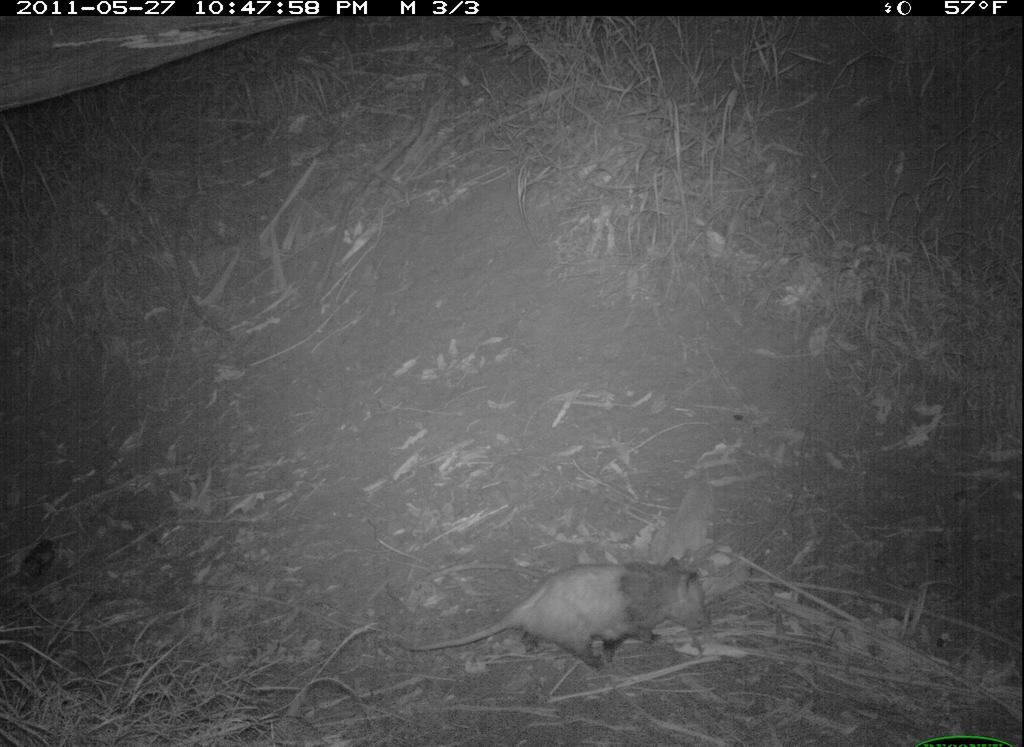opossum: (424, 547, 728, 664)
